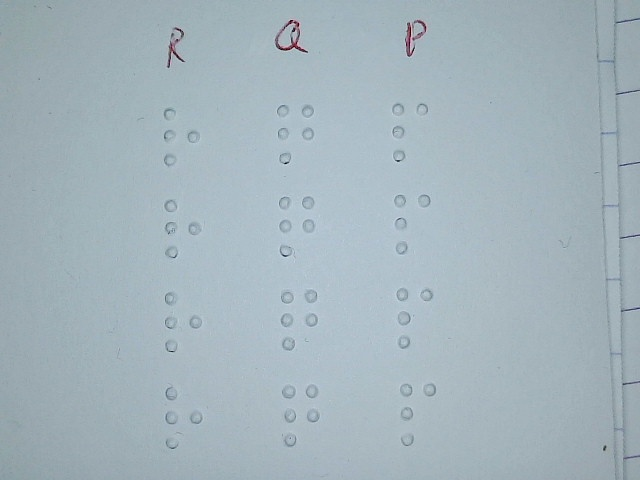P: (389, 99, 430, 164), (392, 191, 433, 256), (394, 285, 435, 350), (397, 380, 438, 445)
Q: (275, 101, 316, 166), (276, 192, 317, 257), (279, 287, 320, 352), (280, 382, 321, 447)
R: (161, 104, 202, 169), (163, 196, 204, 261), (162, 289, 203, 354), (163, 384, 204, 449)
